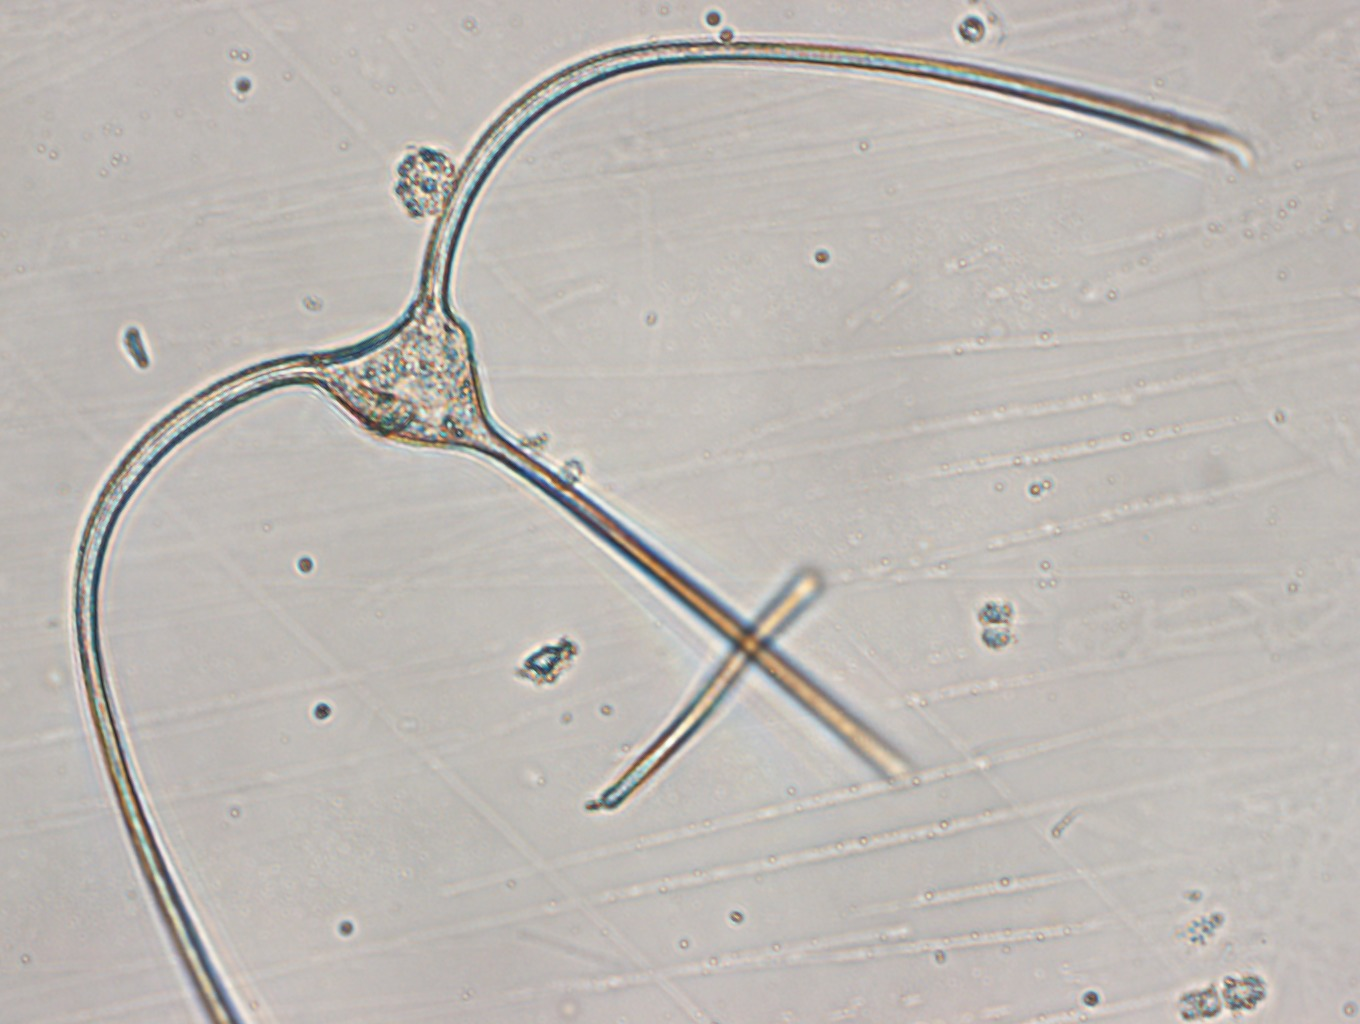ceratium trichoceros: (66, 28, 1252, 1024)
